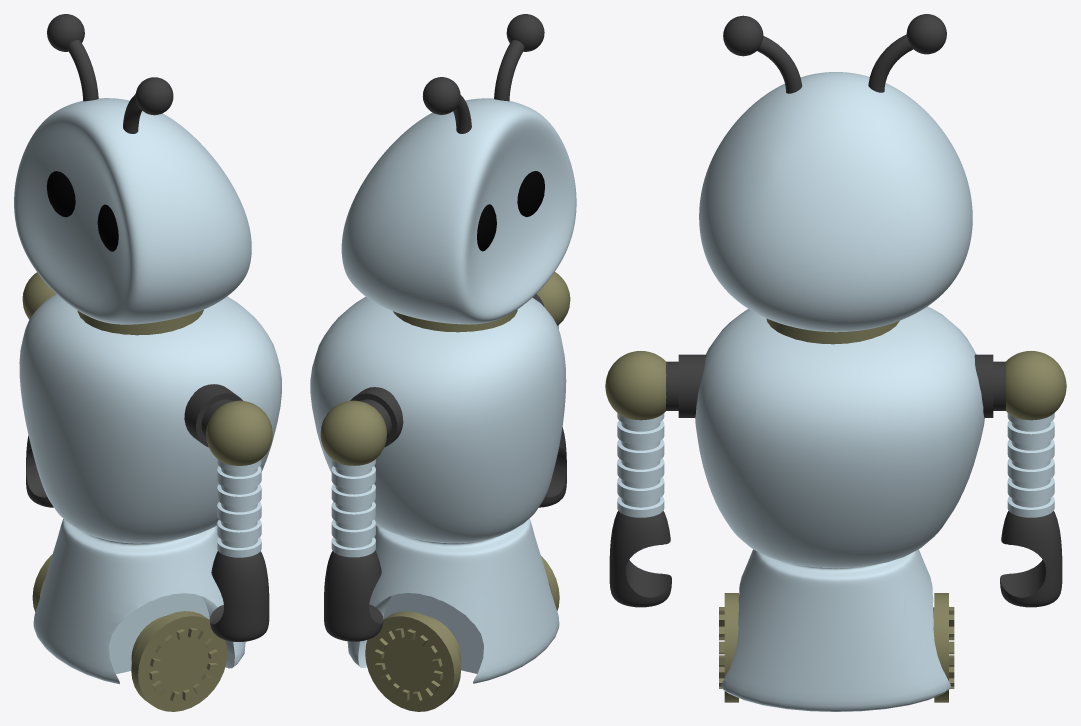
The model's file is RobotLight.fbx.
3 renders of one model, left to right at view 1: azimuth 30°, elevation 25°; view 2: azimuth 150°, elevation 25°; view 3: azimuth 270°, elevation 25°, orthographic. The views are drawn at different scales.
Parts seen in each view (by area): view 1: body, head, Cylinder, hands, elbow, arm-joint, antenas.002, eyes, shoulder, antenas, neck.001, arm-joint.001 (+1 smaller); view 2: body, head, Cylinder, hands.001, elbow.001, arm-joint.001, antenas, eyes, antenas.002, shoulder.001, arm-joint, neck.001 (+1 smaller); view 3: body, head, elbow, elbow.001, hands, hands.001, arm-joint, arm-joint.001, Cylinder, antenas.002, antenas, shoulder (+2 smaller).
Boxes of the visible parts, x1,y1,x2,y2 form: body: [19, 294, 281, 684]; head: [14, 98, 251, 324]; Cylinder: [32, 554, 227, 711]; hands: [209, 551, 269, 641]; elbow: [217, 459, 261, 557]; arm-joint: [206, 400, 272, 465]; antenas.002: [47, 14, 98, 101]; eyes: [46, 171, 118, 251]; shoulder: [184, 384, 242, 447]; antenas: [123, 77, 173, 133]; neck.001: [77, 309, 203, 335]; arm-joint.001: [22, 272, 55, 319]; body: [310, 296, 566, 683]; head: [341, 98, 576, 324]; Cylinder: [365, 556, 559, 711]; hands.001: [324, 550, 383, 641]; elbow.001: [331, 459, 375, 557]; arm-joint.001: [320, 400, 386, 465]; antenas: [494, 14, 544, 101]; eyes: [477, 171, 544, 251]; antenas.002: [422, 77, 471, 133]; shoulder.001: [350, 387, 403, 447]; arm-joint: [536, 272, 570, 325]; neck.001: [393, 309, 517, 332]; body: [695, 306, 984, 711]; head: [699, 72, 972, 332]; elbow: [617, 413, 664, 517]; elbow.001: [1007, 413, 1054, 517]; hands: [609, 511, 671, 607]; hands.001: [1000, 511, 1062, 607]; arm-joint: [605, 351, 666, 420]; arm-joint.001: [1005, 351, 1066, 420]; Cylinder: [719, 593, 954, 702]; antenas.002: [868, 14, 946, 92]; antenas: [723, 15, 802, 93]; shoulder: [666, 354, 706, 417].
Bounding box in the file's own units: 643 × 1818 × 1134.
